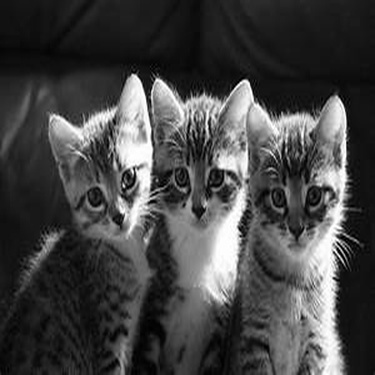cat: (8, 70, 157, 368), (132, 73, 255, 370), (237, 90, 358, 373)
